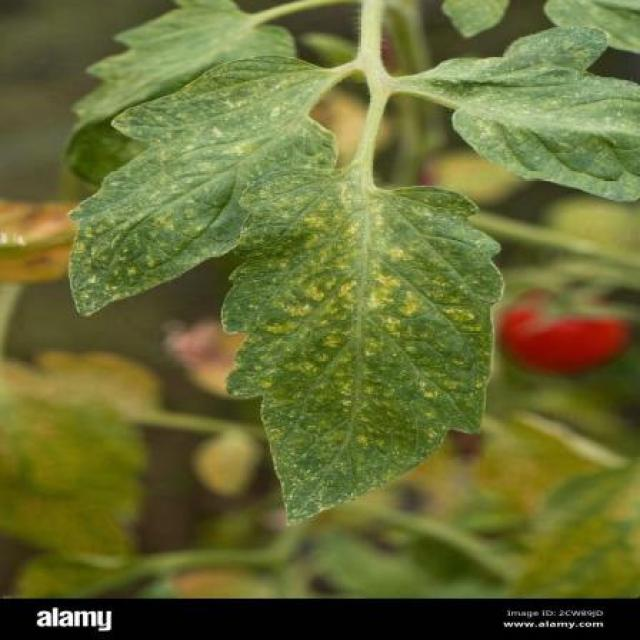Spider Mites: (216, 165, 506, 528), (67, 53, 340, 318), (415, 26, 640, 203)
